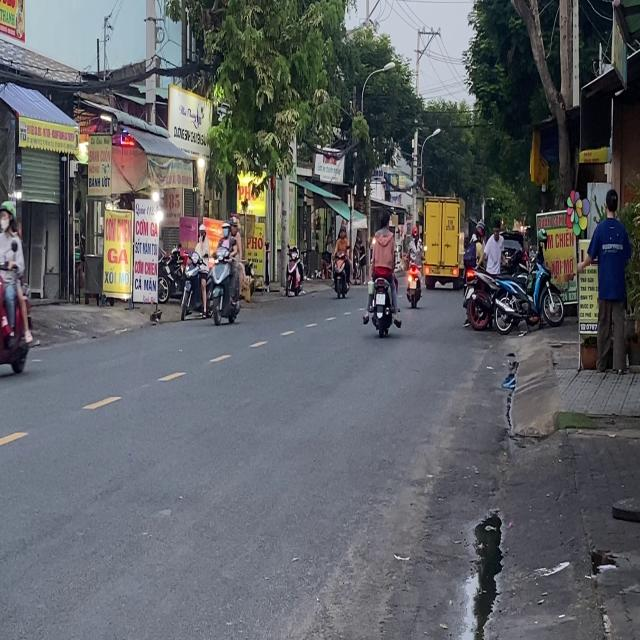helmet: (0, 200, 13, 232)
licenseplate: (0, 198, 35, 383)
